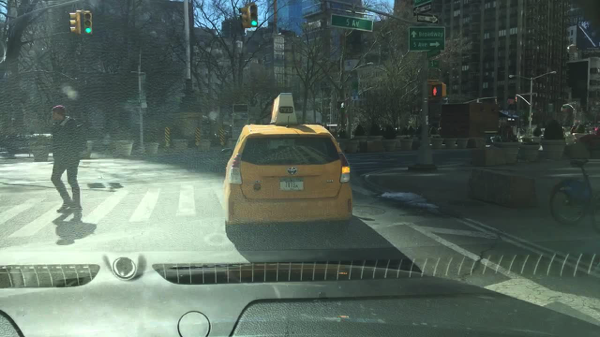bike: (545, 158, 599, 225)
car: (223, 93, 354, 242)
person: (51, 105, 85, 214)
traffic light: (248, 3, 259, 30), (431, 81, 447, 99), (82, 11, 93, 36), (237, 8, 249, 29), (69, 11, 79, 35), (337, 101, 345, 110)
traffic sign: (408, 27, 446, 51), (331, 16, 374, 33), (411, 1, 435, 14), (415, 13, 440, 24)
